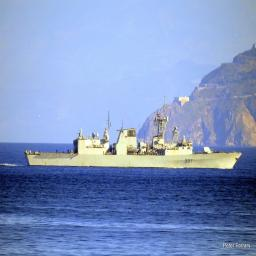Fragata: (26, 93, 244, 173)
